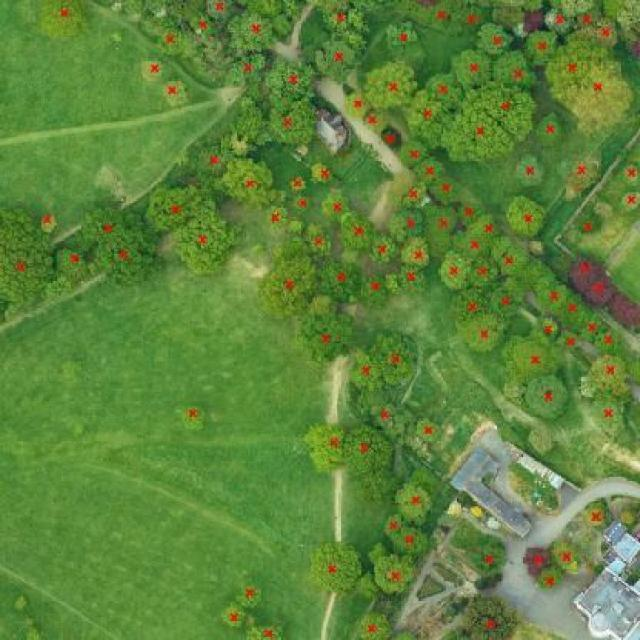tree: (0, 203, 51, 309), (443, 89, 519, 160), (565, 62, 630, 129), (547, 29, 615, 91), (347, 424, 399, 498), (90, 232, 161, 286), (264, 255, 319, 316), (82, 206, 151, 254), (189, 217, 246, 274), (150, 183, 216, 231), (507, 332, 565, 383), (298, 315, 354, 366), (224, 157, 279, 208), (460, 596, 522, 639), (363, 63, 420, 109), (312, 543, 361, 592), (375, 331, 417, 387), (492, 49, 540, 93), (320, 33, 363, 82), (35, 0, 87, 40), (556, 152, 601, 198), (305, 423, 350, 469), (316, 261, 364, 302), (272, 101, 316, 145), (457, 310, 503, 352), (584, 355, 631, 396), (323, 0, 371, 40), (528, 375, 570, 420), (230, 12, 276, 53), (239, 95, 273, 148), (267, 61, 315, 98), (508, 193, 546, 239), (592, 390, 628, 438), (493, 235, 533, 278), (465, 535, 509, 574), (423, 74, 468, 111), (398, 482, 434, 528), (342, 212, 378, 257), (223, 53, 266, 90), (449, 49, 492, 86), (407, 92, 445, 133), (375, 556, 417, 593), (55, 244, 91, 284), (366, 393, 403, 430), (474, 21, 515, 54), (582, 15, 621, 49), (450, 286, 485, 323), (386, 19, 420, 56), (389, 206, 426, 240), (536, 277, 569, 315), (467, 255, 501, 291), (571, 258, 605, 293), (618, 0, 640, 54), (440, 250, 468, 292), (456, 228, 490, 262), (525, 33, 561, 64), (559, 292, 590, 328), (537, 111, 566, 149), (487, 284, 519, 318), (421, 0, 457, 29), (350, 353, 379, 389), (612, 294, 640, 331), (357, 275, 389, 307), (401, 235, 432, 268), (513, 152, 544, 185), (585, 275, 618, 306), (393, 529, 430, 556), (455, 1, 487, 32), (523, 260, 554, 292), (155, 27, 189, 56), (306, 224, 334, 259), (196, 148, 229, 177), (358, 611, 391, 640), (320, 191, 351, 220), (401, 140, 432, 169), (369, 236, 400, 265), (398, 264, 427, 295), (454, 193, 483, 224), (543, 6, 575, 34), (426, 207, 460, 233), (568, 3, 603, 28), (414, 158, 446, 185), (552, 543, 581, 572), (524, 546, 551, 577), (433, 175, 462, 203), (473, 214, 501, 243), (594, 329, 621, 356), (346, 94, 374, 120), (179, 404, 207, 430), (162, 78, 187, 107), (529, 424, 554, 451), (536, 567, 565, 590), (576, 208, 601, 234), (221, 602, 247, 627), (405, 184, 431, 208), (246, 624, 285, 640), (580, 315, 603, 342), (203, 0, 237, 18), (264, 206, 290, 229), (416, 420, 442, 443), (385, 513, 408, 539), (139, 58, 164, 81), (502, 380, 527, 403), (585, 503, 608, 528), (369, 540, 391, 566), (358, 573, 380, 599), (236, 583, 262, 605), (520, 12, 548, 32), (620, 352, 640, 380), (36, 214, 62, 235), (380, 126, 403, 148), (475, 575, 503, 593), (190, 17, 215, 37), (310, 163, 335, 183), (383, 273, 403, 295), (621, 191, 640, 214), (542, 315, 559, 339), (621, 164, 640, 183), (561, 332, 581, 350), (365, 112, 382, 131), (619, 507, 636, 525), (294, 195, 311, 212), (287, 218, 305, 234), (392, 629, 418, 640), (289, 177, 306, 192)
